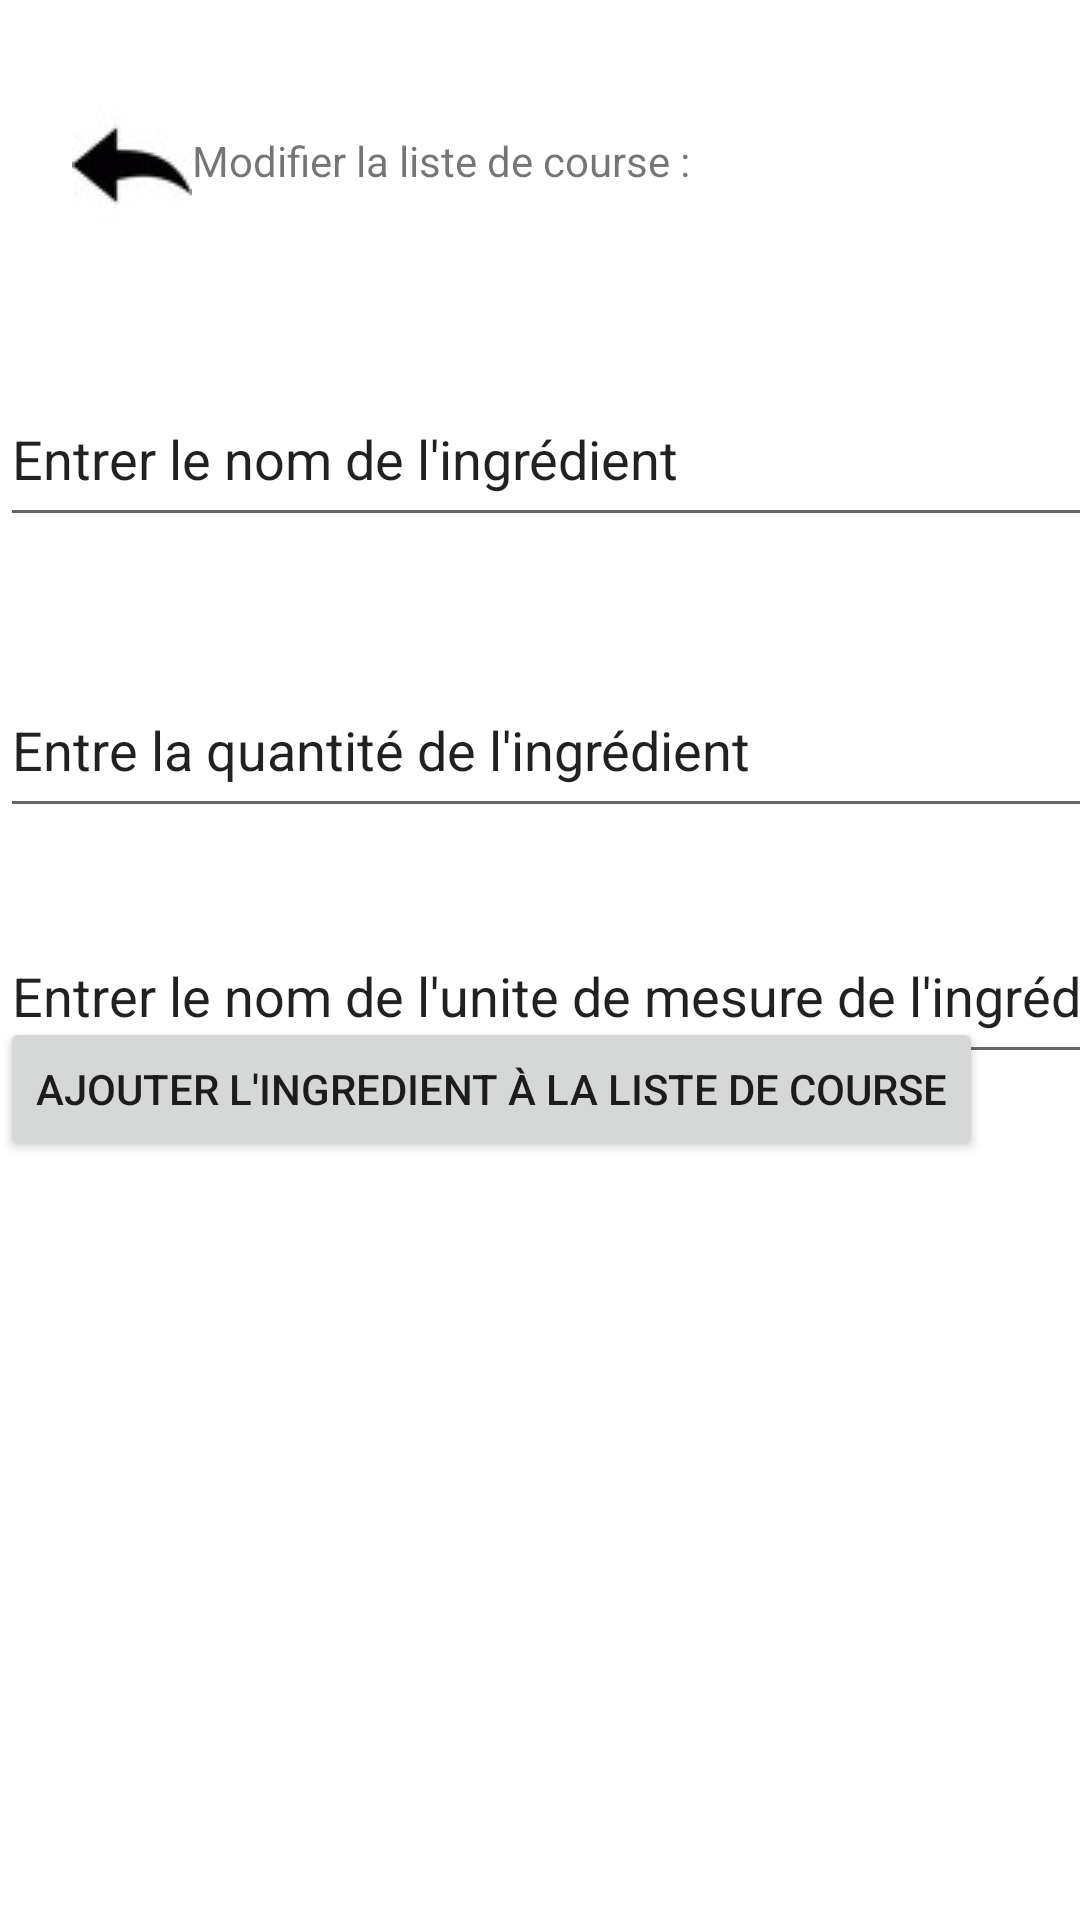

Icons on this 1080 × 1920 Android screen, each with its box as [x1,y1,x2,y2]:
fleche retour: [72,127,192,203]
